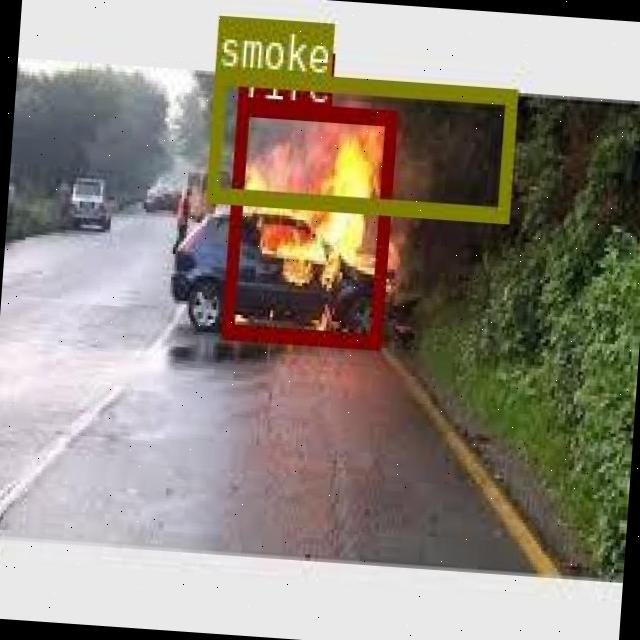fire: (219, 98, 393, 345)
smoke: (206, 67, 514, 220)
